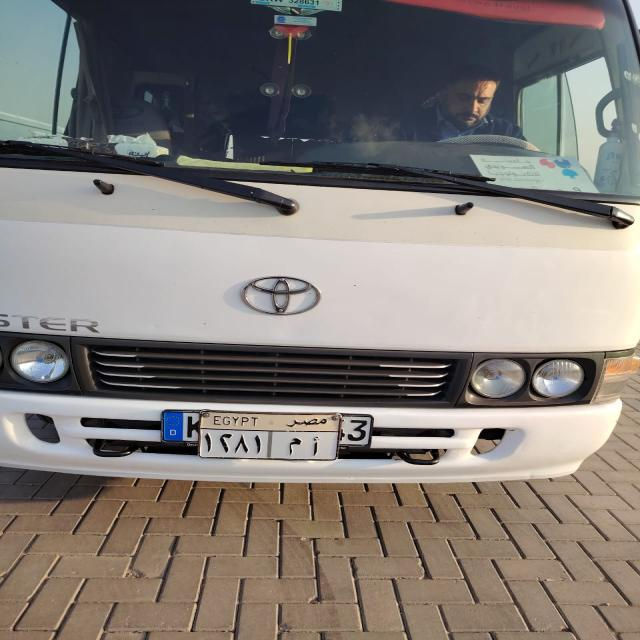car-plate: (204, 417, 336, 456)
